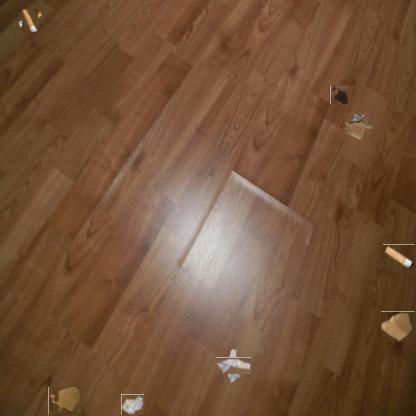dirty: (382, 311, 416, 342), (383, 244, 415, 271), (344, 112, 374, 140), (220, 352, 247, 379), (121, 394, 144, 415), (20, 10, 40, 30)
liquid: (48, 388, 81, 416), (330, 85, 349, 104)
